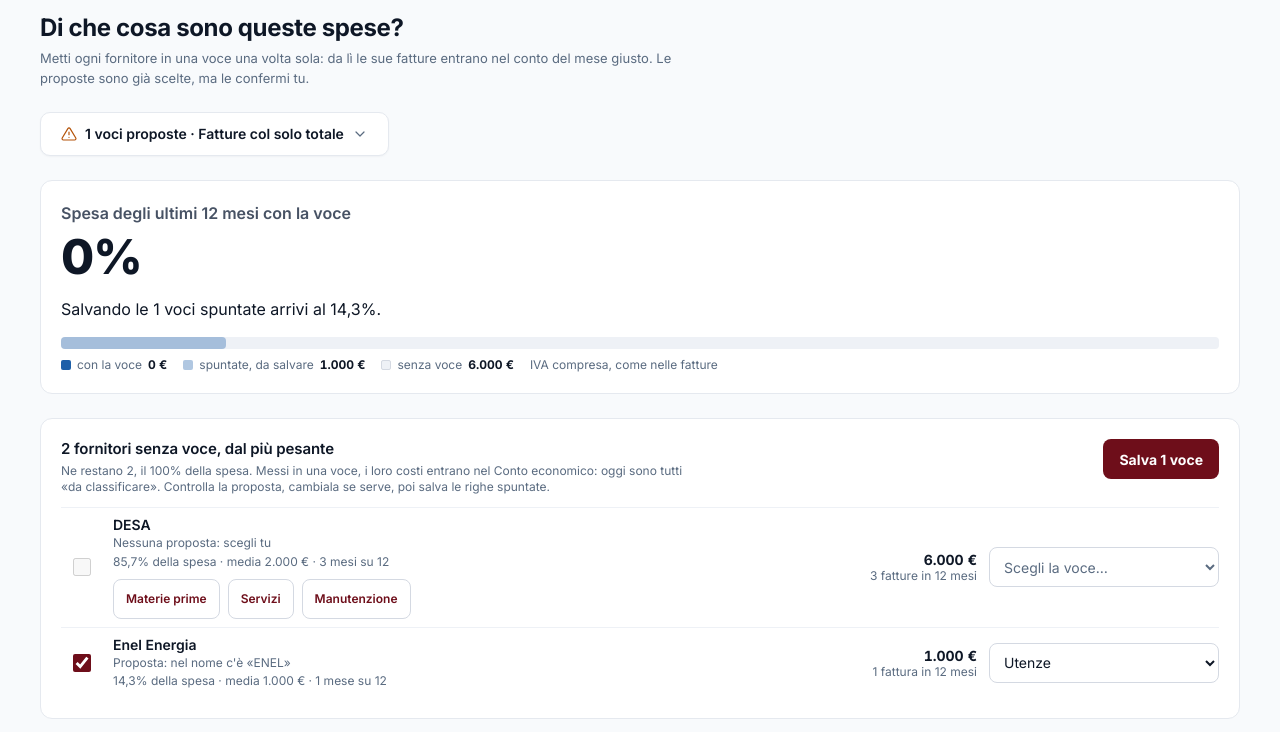
Test case: scegliere in fretta › senza proposta: un tocco sulla voce, e la riga è scelta e spuntata
This screenshot has width=1280, height=732.
Step 1. Click the button with aria-label "Metti DESA SRL in Servizi" → click(261, 599), box [228,579,294,619]
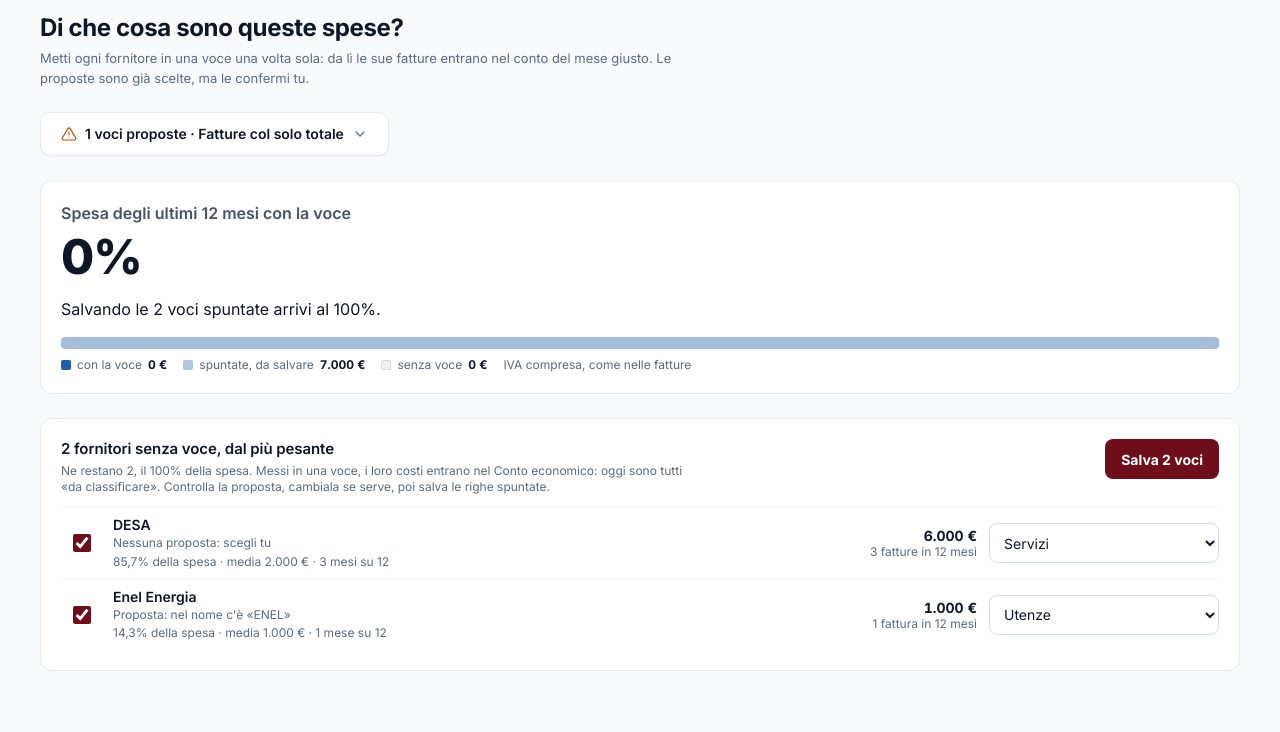
Now the dropdown named "Voce di spesa di DESA SRL" shows "Servizi", box [989,523,1219,563]
Now the checkbox named "Conferma la voce di DESA SRL" is checked, box [72,534,90,552]
Now the button "Salva 2 voci" is shown, box [1105,439,1219,479]
